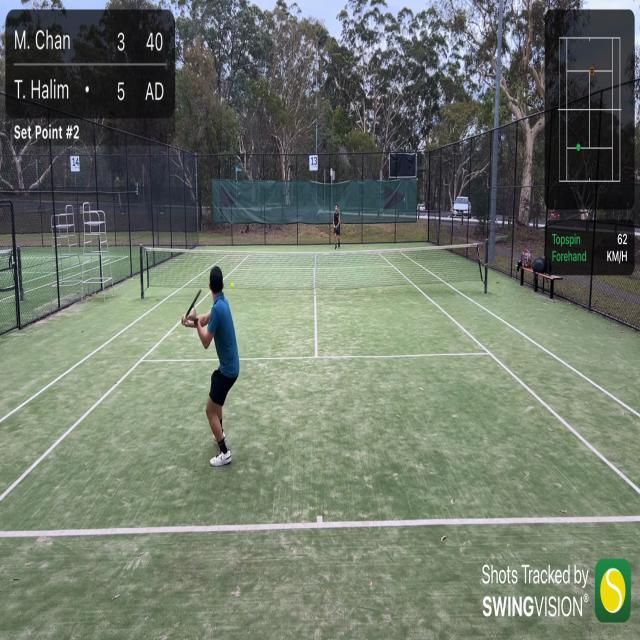ball: (230, 281, 235, 290)
